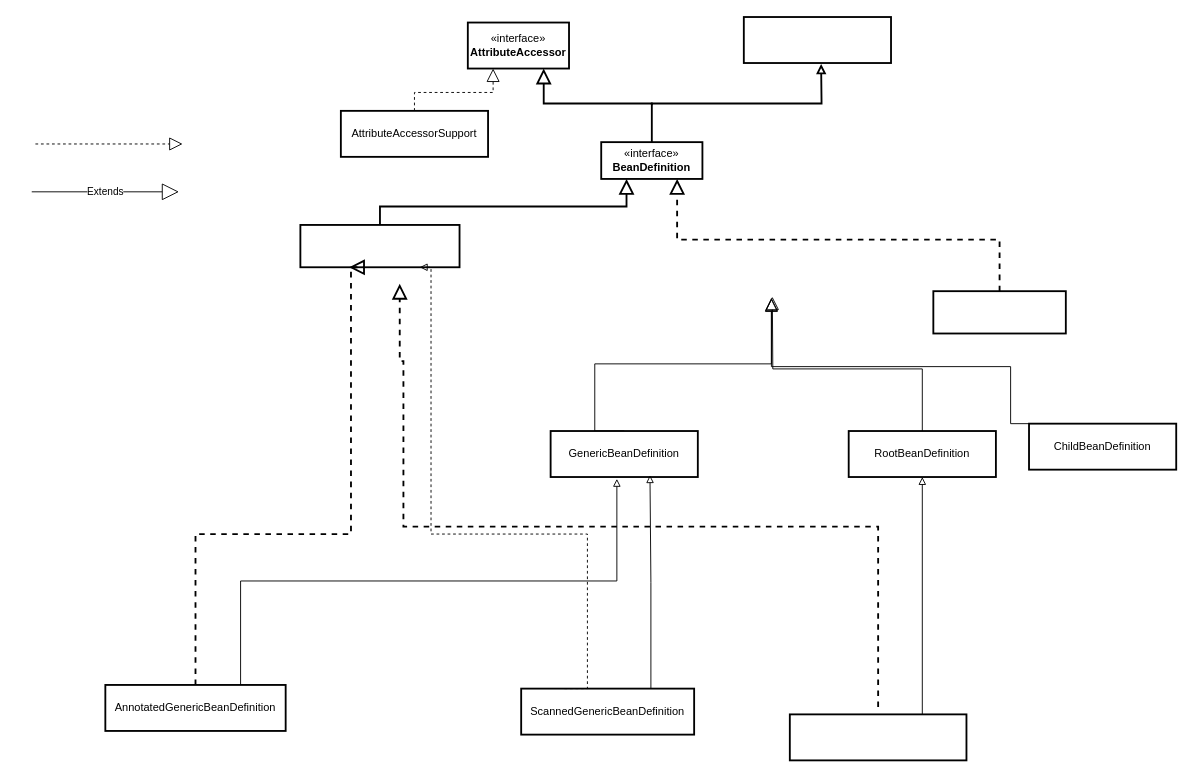
Image size: 1193x776. Some labels were removed from this diagram. The shapes that lost their labels are listed below. From the top down, each one's centre as x and y in pixels, then its label:
(x=816, y=39): «interface» BeanMetadataElement
(x=379, y=246): «interface» AnnotatedBeanDefinition
(x=999, y=312): AbstractBeanDefinition
(x=877, y=737): ConfigurationClassBeanDefinition
